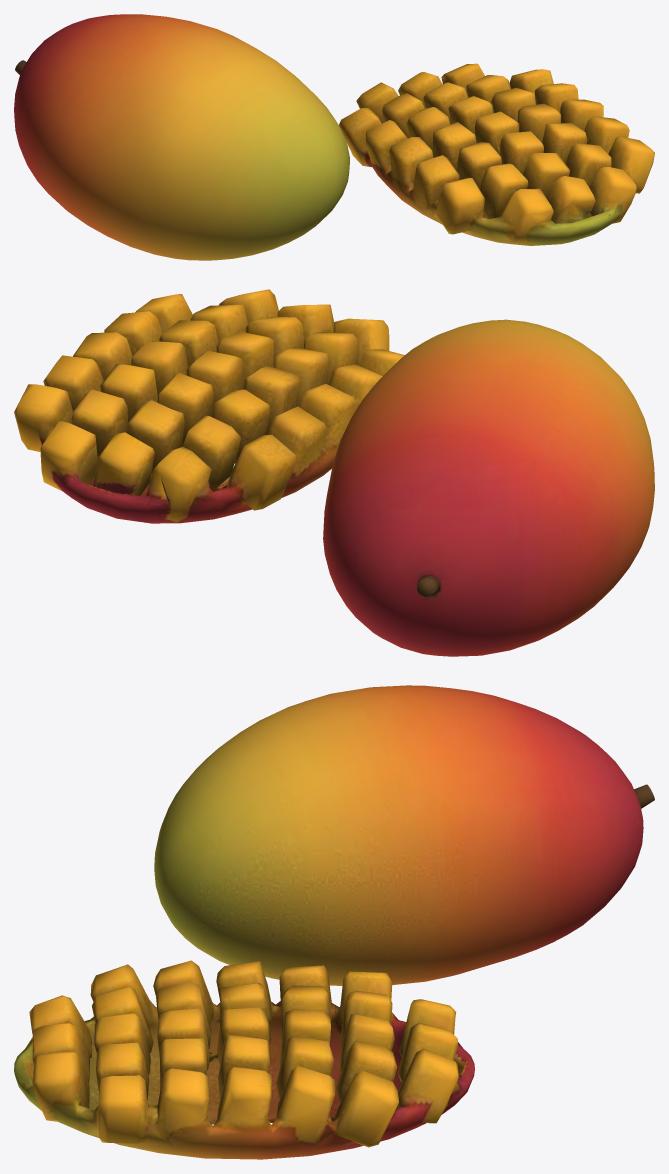
Rendered from mango.glb.
The picture shows the model from 3 angles, top to bottom: view 1: azimuth 30°, elevation 25°; view 2: azimuth 150°, elevation 25°; view 3: azimuth 270°, elevation 25°; orthographic projection. The views are drawn at different scales.
Visible parts, largest first — view 1: mango.001, mango_cheek; view 2: mango.001, mango_cheek; view 3: mango.001, mango_cheek.
Part boxes in pixels (bbox=[...]): mango.001: bbox=[14, 14, 349, 260]; mango_cheek: bbox=[339, 63, 654, 245]; mango.001: bbox=[323, 319, 654, 656]; mango_cheek: bbox=[14, 289, 404, 523]; mango.001: bbox=[154, 685, 654, 985]; mango_cheek: bbox=[14, 960, 474, 1159].
Size of the model in its own units: 1.81 by 0.724 by 1.59.
Materials: 2 (2 with a texture image).
